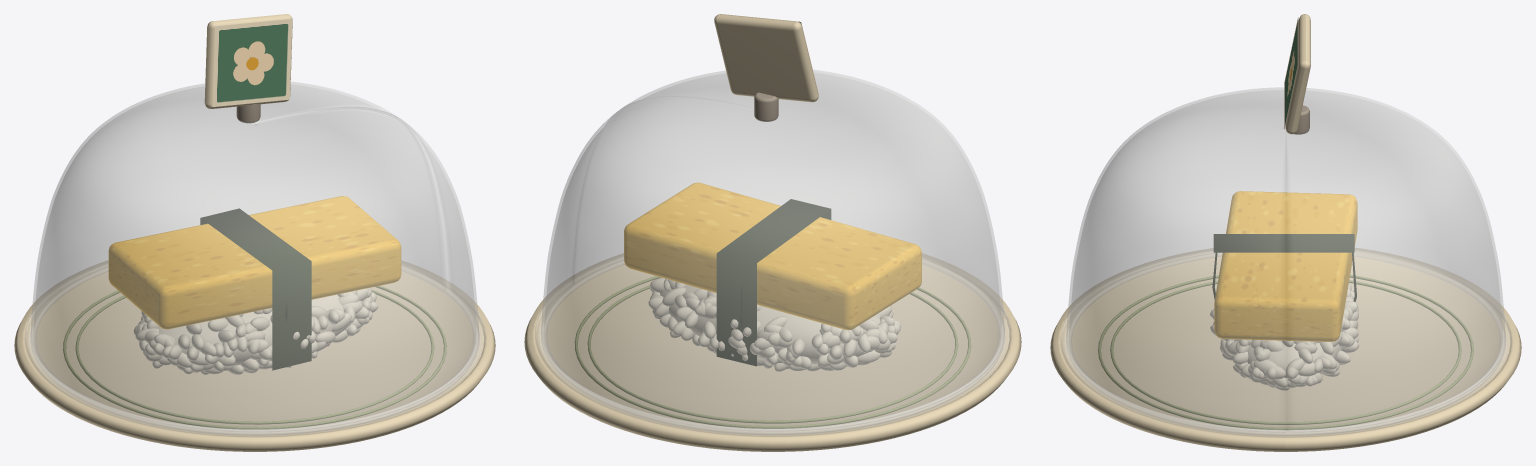
The model's file is tamagoyaki.glb.
The picture shows the model from 3 angles, left to right: view 1: azimuth 30°, elevation 25°; view 2: azimuth 150°, elevation 25°; view 3: azimuth 270°, elevation 25°; orthographic projection. The views are drawn at different scales.
Parts seen in each view (by area): view 1: egg · GLASS cloche, egg · lacquer plate, Tamagoyaki folded egg, egg · sculpted individual rice grains, Tamagoyaki wide seaweed ribbon, egg · painted sign face, egg · GLASS molded foot, egg · glass lower rolled rim, egg · plate rim, egg · inset glaze line.001, egg · inset glaze line, egg · rice body (+1 smaller); view 2: egg · GLASS cloche, egg · lacquer plate, Tamagoyaki folded egg, egg · sculpted individual rice grains, egg · sign porcelain, Tamagoyaki wide seaweed ribbon, egg · GLASS molded foot, egg · glass lower rolled rim, egg · plate rim, egg · inset glaze line.001, egg · inset glaze line, egg · rice body (+1 smaller); view 3: egg · GLASS cloche, egg · lacquer plate, Tamagoyaki folded egg, egg · sculpted individual rice grains, egg · GLASS molded foot, egg · glass lower rolled rim, Tamagoyaki wide seaweed ribbon, egg · plate rim, egg · inset glaze line.001, egg · inset glaze line, egg · sign porcelain, egg · rice body (+1 smaller).
Boxes of the visible parts, bbox=[...] form: egg · GLASS cloche: bbox=[31, 82, 478, 431]; egg · lacquer plate: bbox=[14, 261, 495, 451]; Tamagoyaki folded egg: bbox=[108, 196, 401, 329]; egg · sculpted individual rice grains: bbox=[133, 288, 378, 374]; Tamagoyaki wide seaweed ribbon: bbox=[200, 208, 311, 370]; egg · painted sign face: bbox=[212, 19, 292, 106]; egg · GLASS molded foot: bbox=[24, 308, 485, 436]; egg · glass lower rolled rim: bbox=[30, 267, 479, 435]; egg · plate rim: bbox=[22, 263, 487, 437]; egg · inset glaze line.001: bbox=[63, 286, 446, 429]; egg · inset glaze line: bbox=[75, 289, 434, 424]; egg · rice body: bbox=[157, 294, 362, 365]; egg · GLASS cloche: bbox=[541, 70, 1004, 431]; egg · lacquer plate: bbox=[524, 253, 1021, 451]; Tamagoyaki folded egg: bbox=[624, 182, 921, 329]; egg · sculpted individual rice grains: bbox=[648, 278, 901, 371]; egg · sign porcelain: bbox=[714, 14, 818, 102]; Tamagoyaki wide seaweed ribbon: bbox=[716, 199, 831, 366]; egg · GLASS molded foot: bbox=[535, 303, 1010, 435]; egg · glass lower rolled rim: bbox=[541, 260, 1004, 434]; egg · plate rim: bbox=[532, 256, 1013, 437]; egg · inset glaze line.001: bbox=[574, 276, 971, 428]; egg · inset glaze line: bbox=[587, 285, 958, 423]; egg · rice body: bbox=[660, 285, 880, 364]; egg · GLASS cloche: bbox=[1066, 87, 1505, 432]; egg · lacquer plate: bbox=[1050, 248, 1521, 451]; Tamagoyaki folded egg: bbox=[1214, 191, 1357, 341]; egg · sculpted individual rice grains: bbox=[1210, 284, 1358, 390]; egg · GLASS molded foot: bbox=[1060, 312, 1511, 436]; egg · glass lower rolled rim: bbox=[1066, 253, 1505, 435]; Tamagoyaki wide seaweed ribbon: bbox=[1213, 234, 1354, 252]; egg · plate rim: bbox=[1057, 250, 1514, 438]; egg · inset glaze line.001: bbox=[1098, 275, 1473, 429]; egg · inset glaze line: bbox=[1110, 280, 1461, 424]; egg · sign porcelain: bbox=[1285, 14, 1310, 134]; egg · rice body: bbox=[1233, 320, 1349, 378].
Bounding box in the file's own units: 3.84 × 3.12 × 3.84.
8 materials, 3 textured.
